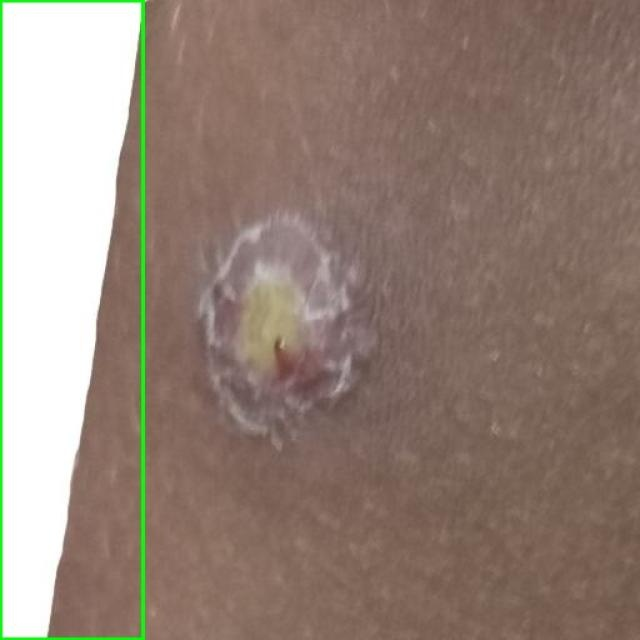Scabies: (0, 0, 142, 639)
